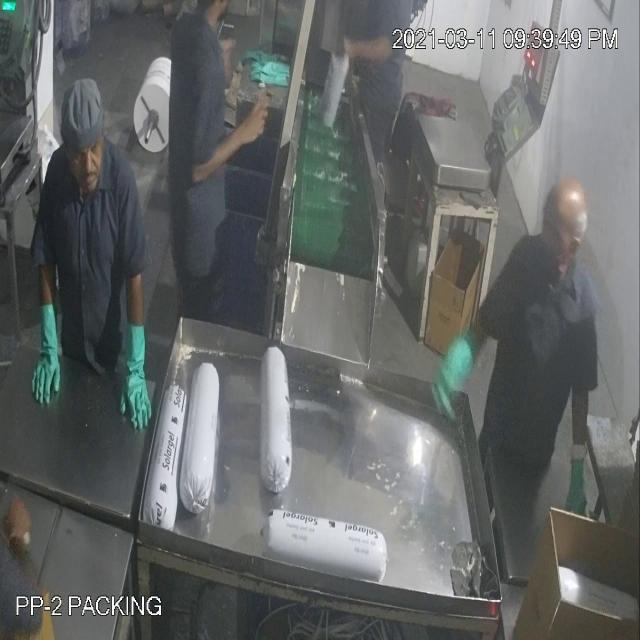No_Gloves: (42, 51, 584, 488)
